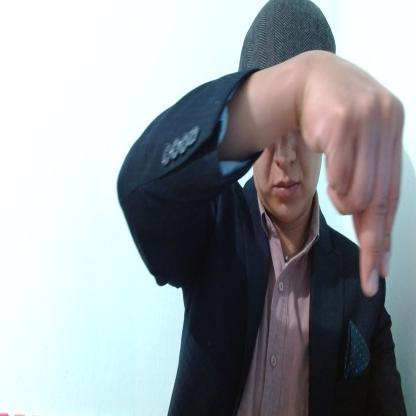N: (300, 50, 405, 296)
